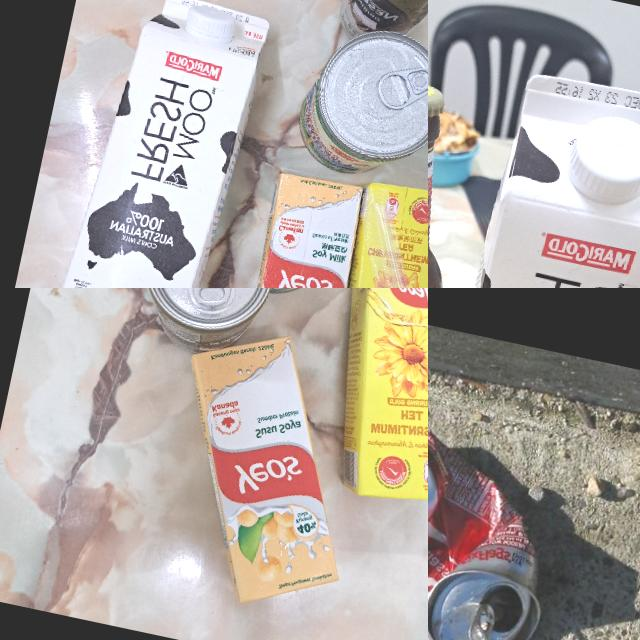aba de lata: (370, 57, 428, 121), (464, 598, 497, 640), (183, 288, 239, 310)
caixinha: (142, 318, 386, 622), (40, 0, 274, 288), (428, 65, 640, 288), (303, 288, 428, 515), (235, 166, 372, 288), (325, 176, 428, 288)
garrafa de vidro: (428, 73, 485, 288)
garrafa plástica: (178, 0, 242, 48)
lata: (428, 409, 574, 640), (291, 18, 428, 190), (130, 288, 286, 363)
tampa plástica: (562, 108, 640, 210)
